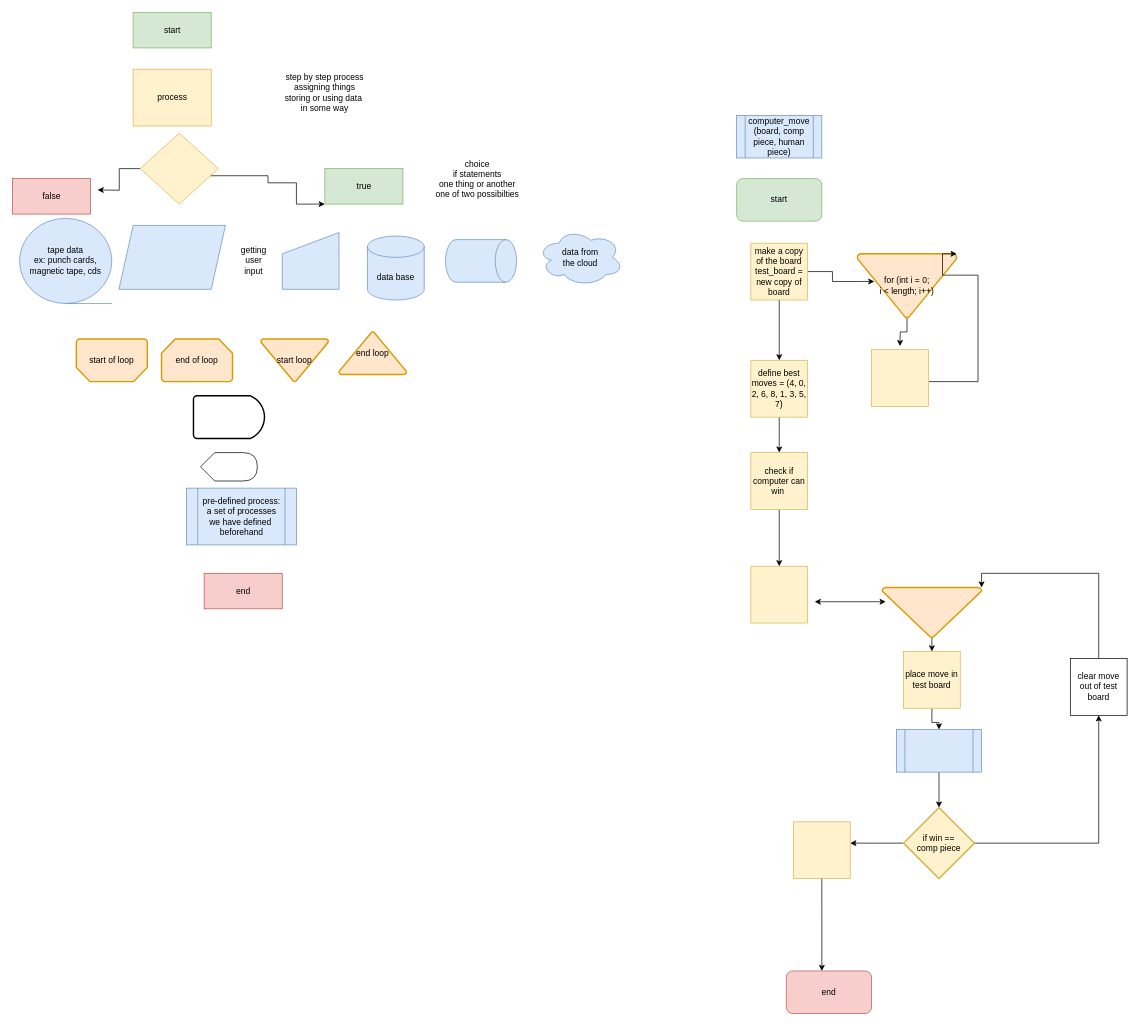
Image size: 1140x1026. Some labels were removed from this diagram. Each missing label, with the box of its shape:
choice if statement: (140, 132, 218, 204)
create a list of legal moves: (750, 566, 808, 623)
data input (can be computer data): (118, 225, 225, 289)
delay: (192, 395, 265, 439)
display: (200, 452, 257, 481)
for move in legal_moves: (881, 586, 982, 638)
hard drive: (445, 239, 517, 282)
return move: (793, 821, 850, 879)
test board [i] = board[i]: (871, 349, 928, 406)
user input manual data input: (282, 232, 339, 289)
win = check winner: (896, 729, 982, 772)
